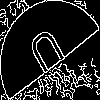U: (25, 25, 73, 84)
